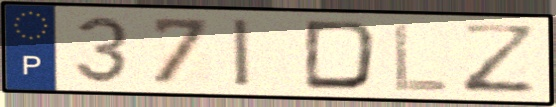3: (67, 14, 134, 86)
7: (149, 16, 213, 88)
D: (300, 18, 382, 93)
I: (229, 16, 255, 90)
L: (390, 20, 451, 93)
Z: (457, 20, 542, 96)
